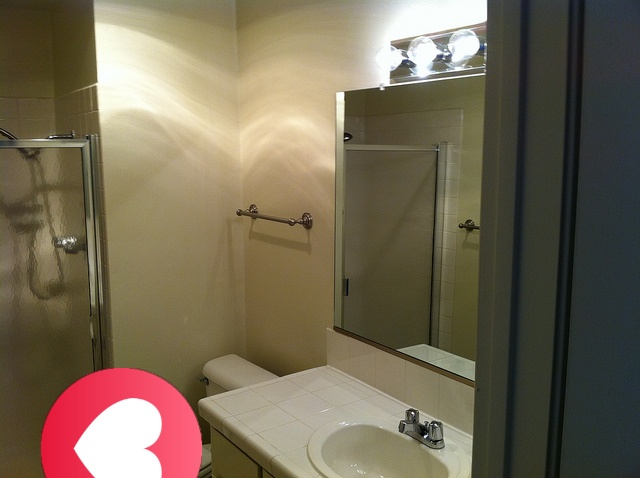love: (41, 368, 202, 478)
